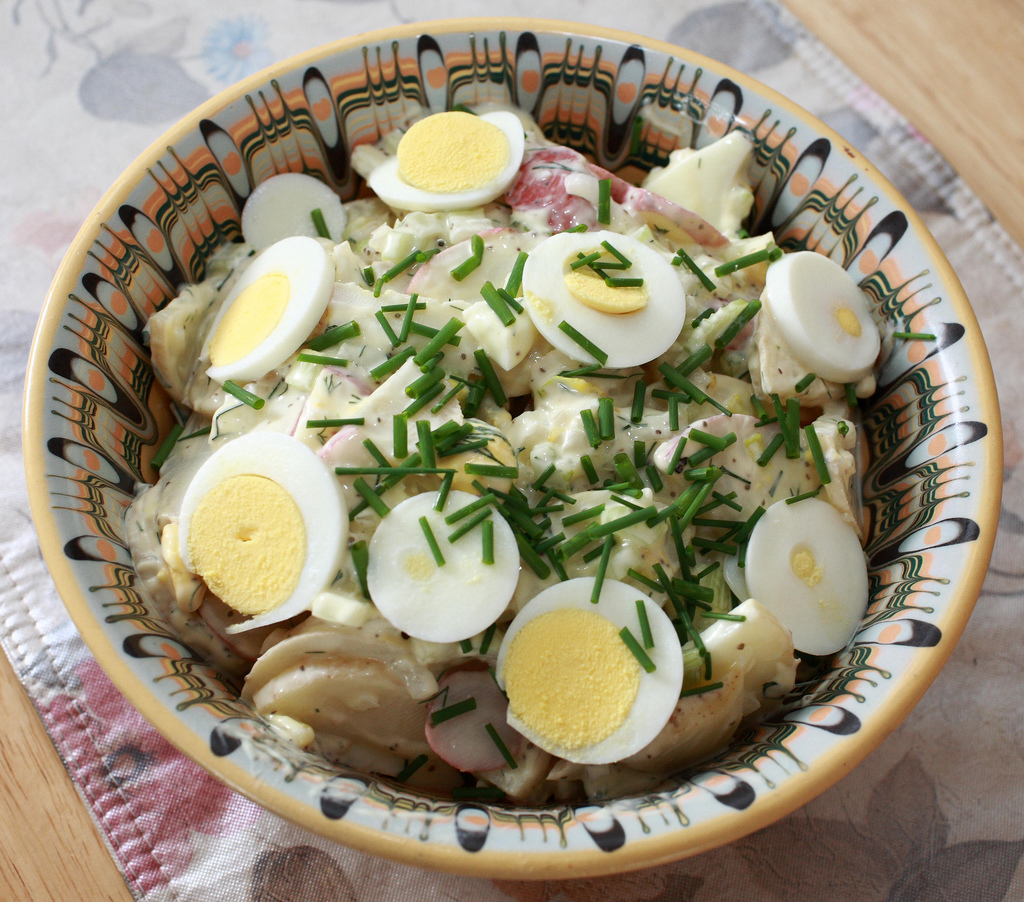fried egg: (514, 579, 696, 764), (188, 443, 337, 615), (204, 228, 329, 376), (755, 256, 881, 374), (542, 248, 673, 351), (386, 112, 519, 205)
